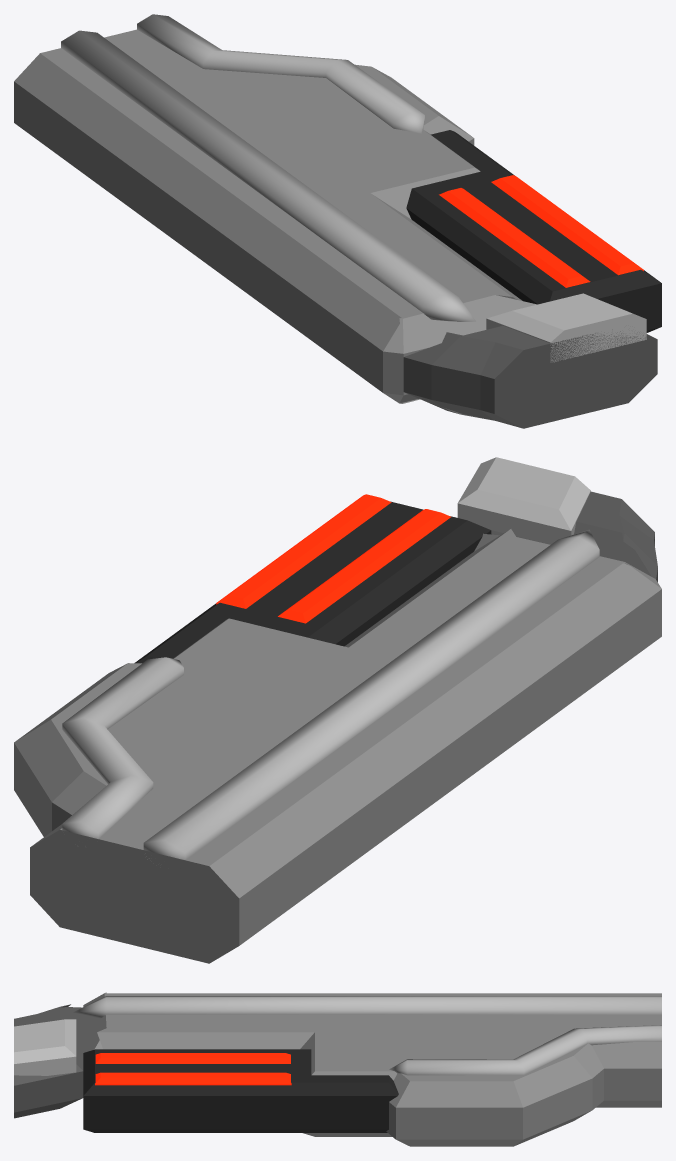
The model's file is newshk-199.glb.
3 renders of one model, top to bottom at view 1: azimuth 30°, elevation 25°; view 2: azimuth 150°, elevation 25°; view 3: azimuth 270°, elevation 25°, orthographic. The views are drawn at different scales.
Parts seen in each view (by area): view 1: newshk-199; view 2: newshk-199; view 3: newshk-199.
Part boxes in pixels (<box>): newshk-199: <box>14,14,661,428</box>; newshk-199: <box>14,457,661,963</box>; newshk-199: <box>14,992,661,1146</box>.
Size of the model in its own units: 0.9167 by 0.3 by 2.33.
